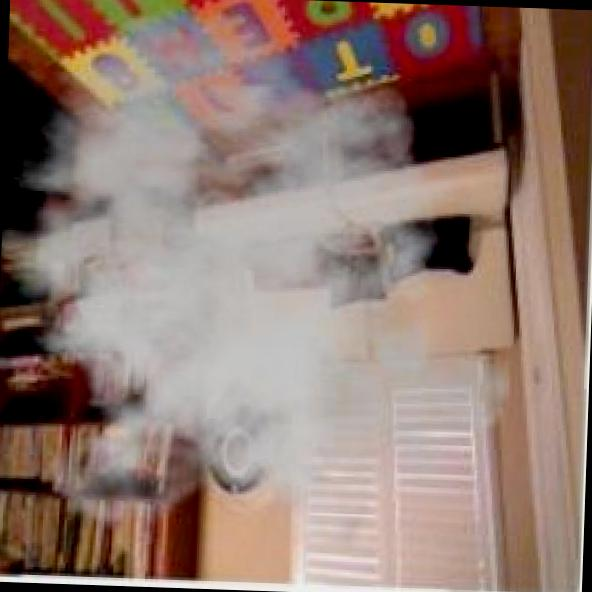smoke: (0, 0, 522, 552)
